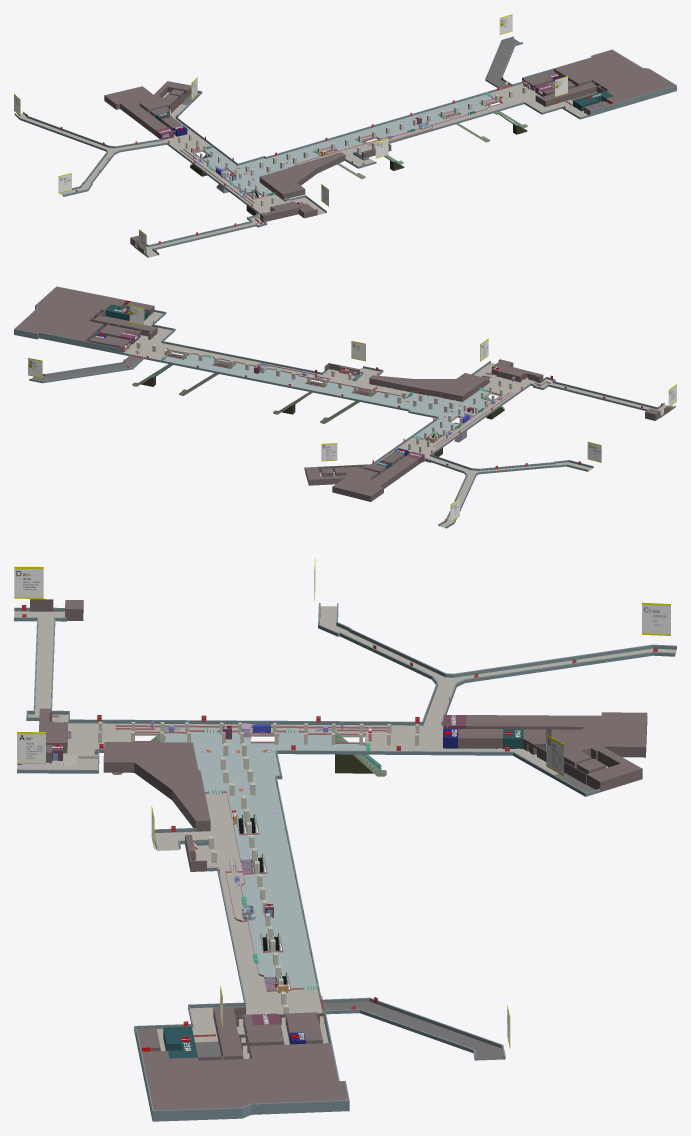
The model's file is psop-whgj-wjdd-b1.a6ba3cd.glb.
3 views of the same model, one above another, from view 1: azimuth 30°, elevation 25°; view 2: azimuth 150°, elevation 25°; view 3: azimuth 270°, elevation 25° (orthographic). The views are drawn at different scales.
Visible parts, largest first — view 1: B1_房间, road-b1-1, B1_侧墙, road-b1-2, 墩柱020, road-b1-3, Object006, 玻璃围栏, A出口, G出口, b1_卫生间, D出口; view 2: B1_房间, road-b1-1, B1_侧墙, road-b1-2, 墩柱020, A出口, 玻璃围栏, Object006, road-b1-3, G出口, D出口, b1_卫生间; view 3: B1_房间, road-b1-1, road-b1-2, B1_侧墙, 墩柱020, Object006, road-b1-3, A出口, 玻璃围栏, b1_卫生间, D出口.
Part boxes in pixels (<box>): B1_房间: <box>104,50,675,221</box>; road-b1-1: <box>17,83,601,257</box>; B1_侧墙: <box>14,36,590,257</box>; road-b1-2: <box>203,94,501,196</box>; 墩柱020: <box>178,86,526,206</box>; road-b1-3: <box>181,38,597,152</box>; Object006: <box>522,49,676,116</box>; 玻璃围栏: <box>180,96,502,224</box>; A出口: <box>14,77,328,206</box>; G出口: <box>499,14,567,96</box>; b1_卫生间: <box>156,91,613,121</box>; D出口: <box>139,138,388,251</box>; B1_房间: <box>15,287,543,501</box>; road-b1-1: <box>123,308,671,528</box>; B1_侧墙: <box>29,310,675,528</box>; road-b1-2: <box>163,351,491,438</box>; 墩柱020: <box>136,342,512,452</box>; A出口: <box>321,338,601,521</box>; 玻璃围栏: <box>165,350,550,447</box>; Object006: <box>14,286,154,354</box>; road-b1-3: <box>32,316,469,419</box>; G出口: <box>28,305,144,378</box>; D出口: <box>351,341,676,406</box>; b1_卫生间: <box>105,304,391,469</box>; B1_房间: <box>17,708,647,1110</box>; road-b1-1: <box>14,606,676,1058</box>; road-b1-2: <box>164,732,364,989</box>; B1_侧墙: <box>14,603,676,1060</box>; 墩柱020: <box>98,721,419,1017</box>; Object006: <box>135,1013,349,1121</box>; road-b1-3: <box>195,732,595,1060</box>; A出口: <box>17,557,670,776</box>; 玻璃围栏: <box>52,715,387,991</box>; b1_卫生间: <box>163,729,523,1058</box>; D出口: <box>14,566,154,849</box>.
Bounding box in the file's own units: 338 × 33 × 182.
38 materials, 6 textured.
